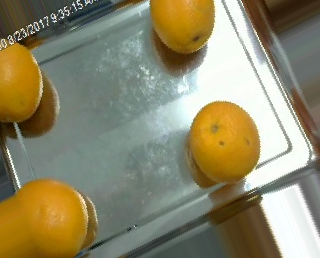Orange: (190, 99, 261, 183), (149, 1, 215, 51)
